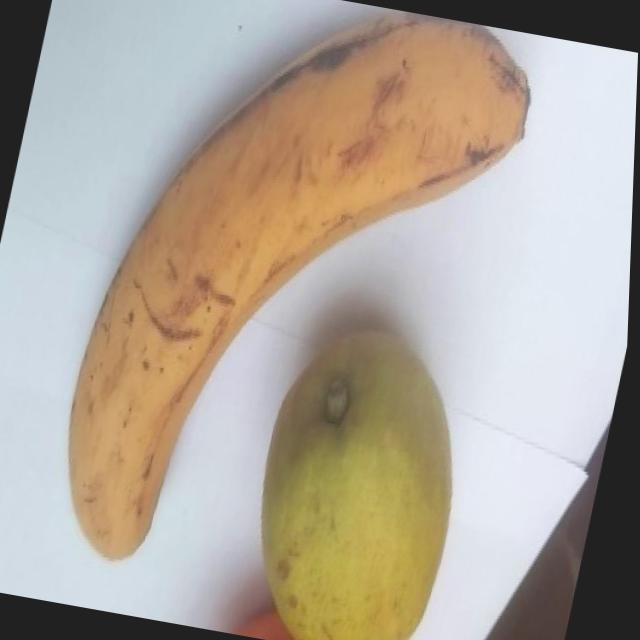Banana: (35, 0, 550, 618)
